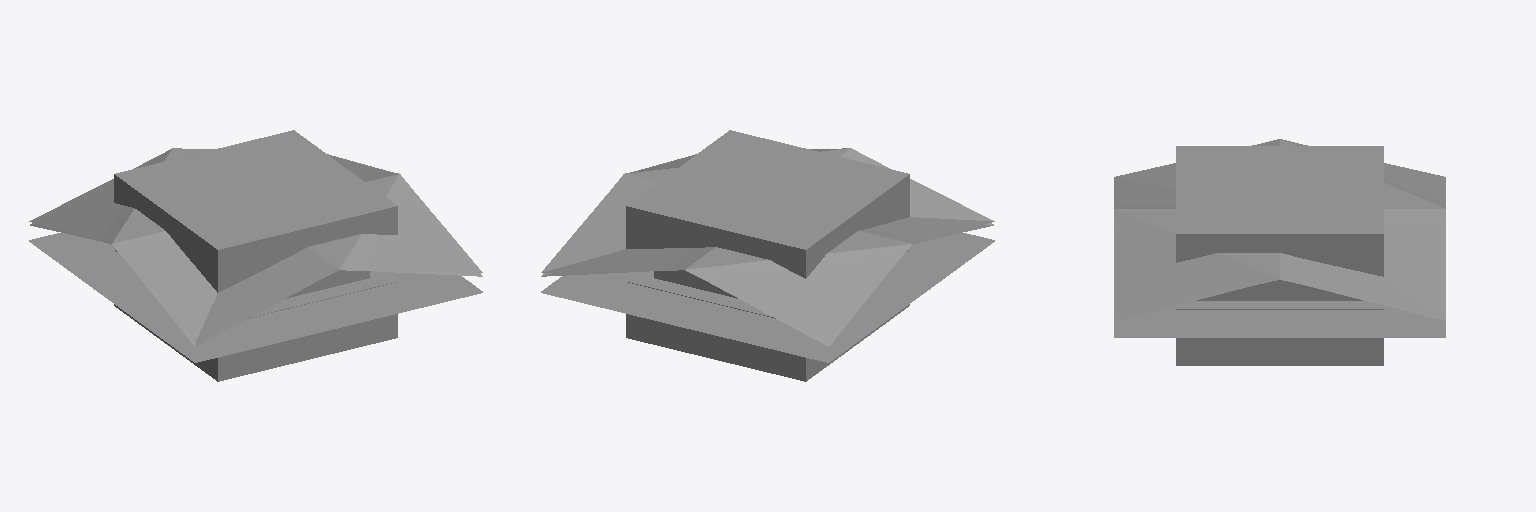
Rendered from blade.obj.
3 renders of one model, left to right at view 1: azimuth 30°, elevation 25°; view 2: azimuth 150°, elevation 25°; view 3: azimuth 270°, elevation 25°, orthographic.
Parts seen in each view (by area): view 1: nodebox4; view 2: nodebox4; view 3: nodebox4.
Part boxes in pixels (x1,y1,x2,y2): nodebox4: (29,130,482,381); nodebox4: (541,130,994,381); nodebox4: (1114,139,1445,365).
Size of the model in its own units: 10 by 4.38 by 10.